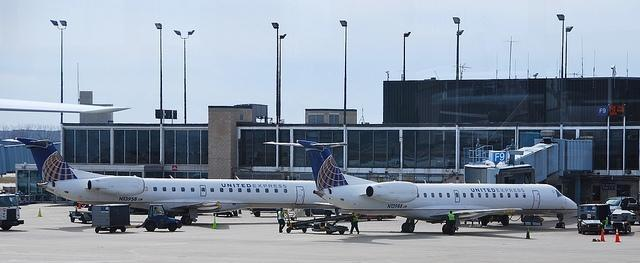car: (603, 196, 639, 213), (578, 214, 603, 235), (612, 208, 638, 224), (605, 220, 632, 234)
truck: (129, 204, 182, 232), (91, 204, 131, 234)
